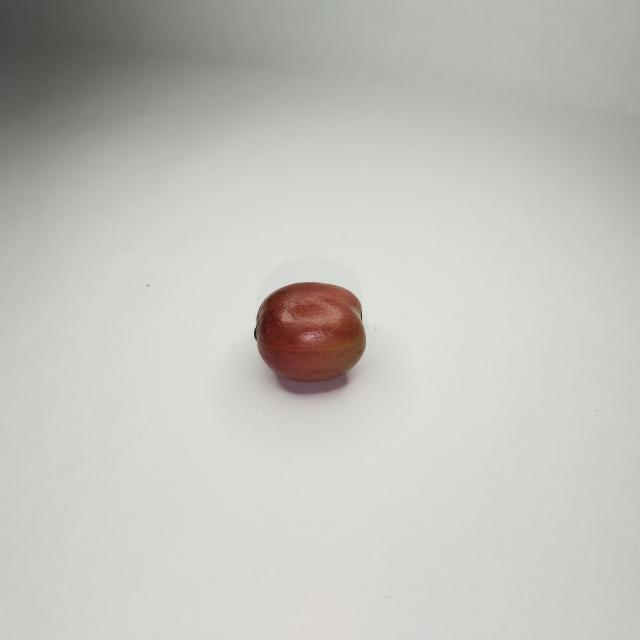Sano: (254, 282, 365, 388)
